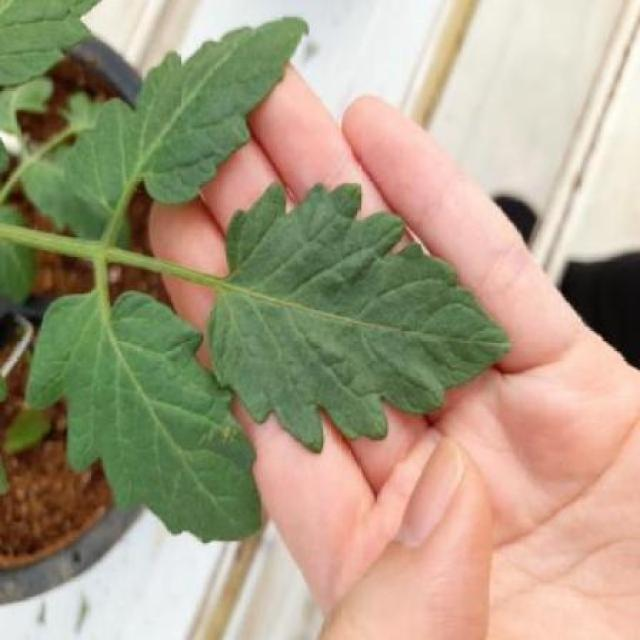Healthy: (207, 181, 512, 453), (25, 291, 262, 543), (65, 18, 309, 205)
